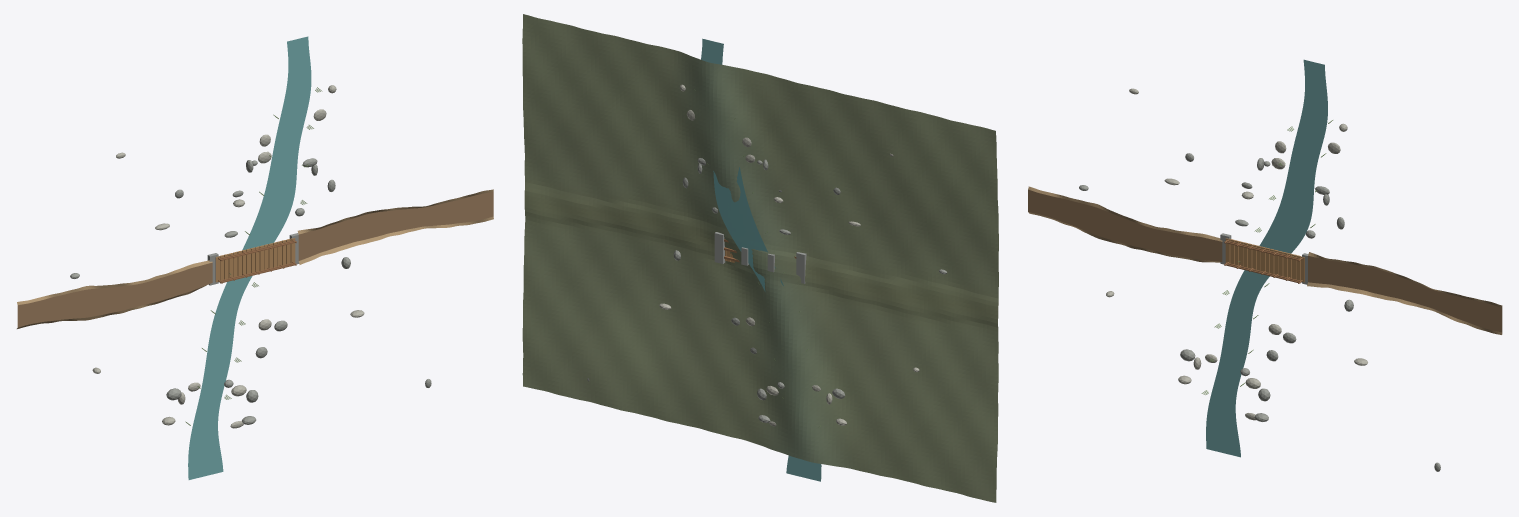
File: barrosan_infrastructure_v0378.glb
The picture shows the model from 3 angles, left to right: view 1: azimuth 30°, elevation 25°; view 2: azimuth 150°, elevation 25°; view 3: azimuth 330°, elevation 25°; orthographic projection.
Visible parts, largest first — view 1: Water, Road_1, Road_4, Road_3, Road_2, Road_5; view 2: Terrain, Water; view 3: Water, Road_1, Road_4, Road_3, Road_2.
Boxes of the visible parts, left/top/right/bottom form: Water: left=188, top=36, right=311, bottom=479; Road_1: left=17, top=262, right=212, bottom=327; Road_4: left=298, top=192, right=493, bottom=260; Road_3: left=298, top=216, right=493, bottom=264; Road_2: left=17, top=260, right=212, bottom=304; Road_5: left=297, top=189, right=493, bottom=234; Terrain: left=522, top=14, right=998, bottom=502; Water: left=701, top=38, right=821, bottom=481; Water: left=1206, top=59, right=1327, bottom=457; Road_1: left=1028, top=189, right=1222, bottom=261; Road_4: left=1308, top=256, right=1502, bottom=332; Road_3: left=1307, top=282, right=1502, bottom=334; Road_2: left=1028, top=186, right=1222, bottom=241.
Size of the model in its own units: 72 by 60 by 3.51.
